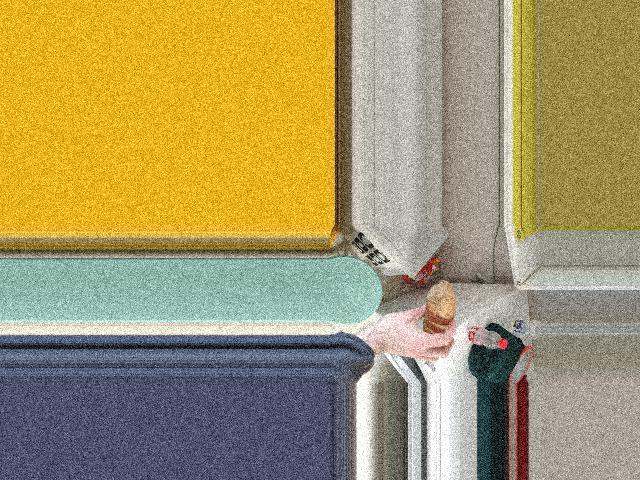sweet_potato: (407, 296, 449, 347)
